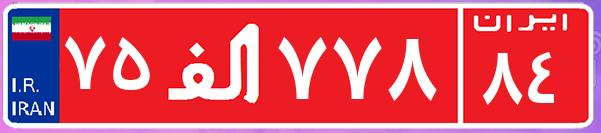4: (525, 38, 570, 115)
5: (110, 28, 158, 105)
7: (273, 28, 330, 110), (330, 28, 385, 110), (57, 26, 110, 107)
8: (385, 28, 445, 110), (475, 38, 525, 113)
الف: (158, 15, 273, 115)
